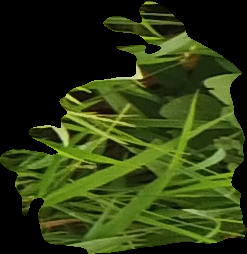grass: (1, 1, 245, 252)
